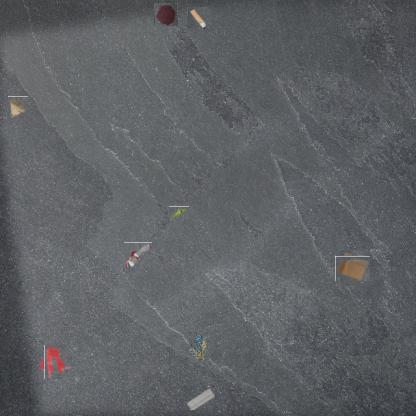dirty: (338, 254, 367, 284), (185, 386, 215, 410), (124, 242, 152, 267), (189, 332, 209, 362), (187, 7, 209, 29), (8, 97, 29, 119), (171, 205, 188, 221)
liquid: (41, 349, 69, 376), (155, 3, 177, 25)
